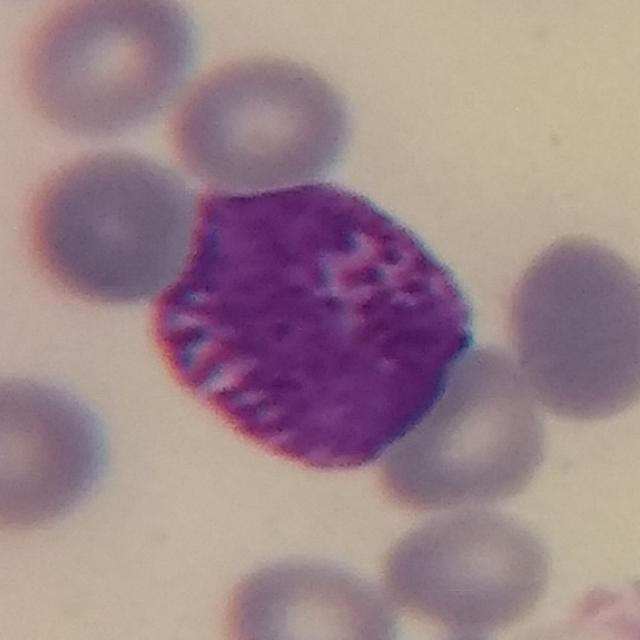baso: (145, 176, 479, 480)
